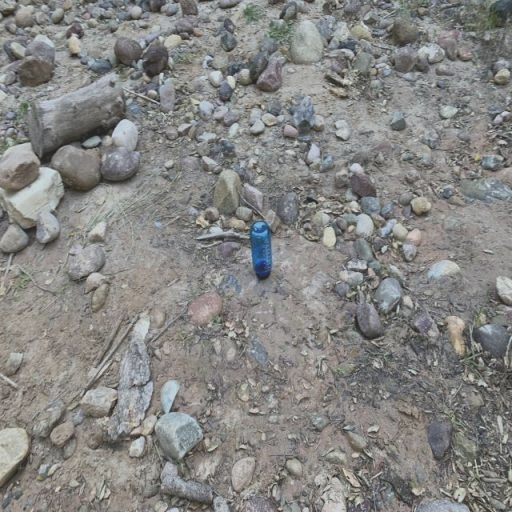bottle: (250, 222, 270, 279)
